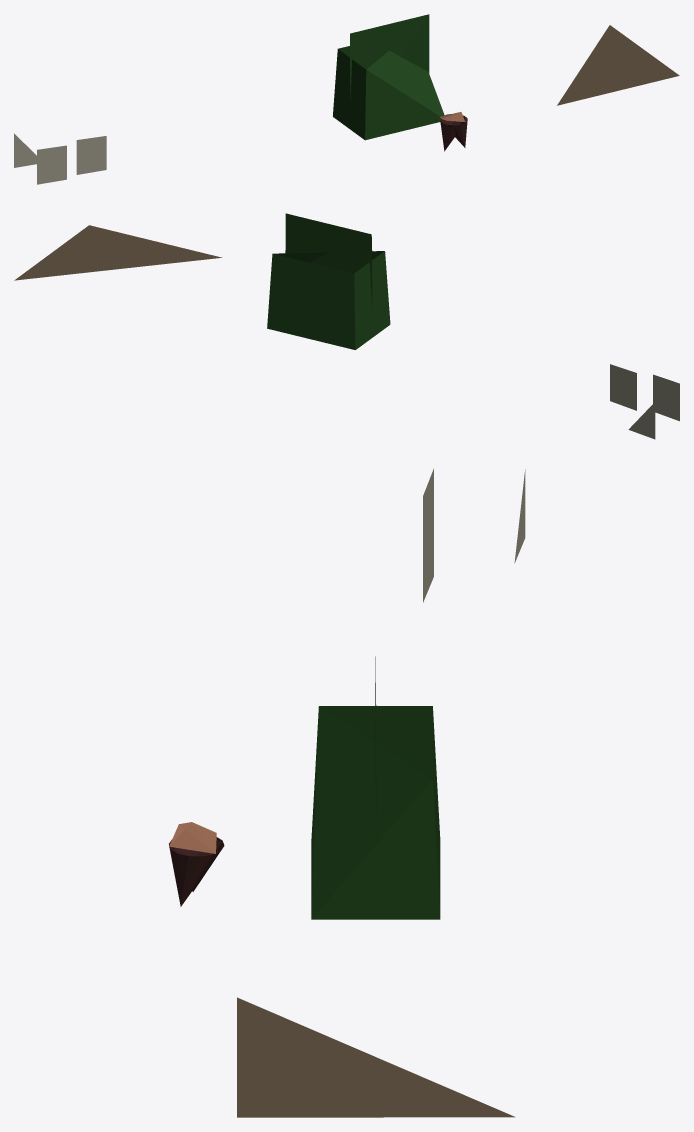
Rendered from ss-groceries.lod2.glb.
3 views of the same model, one above another, from view 1: azimuth 30°, elevation 25°; view 2: azimuth 150°, elevation 25°; view 3: azimuth 270°, elevation 25° (orthographic). The views are drawn at different scales.
Parts seen in each view (by area): view 1: defaultMaterial; view 2: defaultMaterial; view 3: defaultMaterial.
Boxes of the visible parts, x1,y1,x2,y2 form: defaultMaterial: (14, 14, 679, 184); defaultMaterial: (14, 213, 679, 439); defaultMaterial: (169, 468, 525, 1117).
Bounding box in the file's own units: 1.28 × 0.1991 × 0.333.
